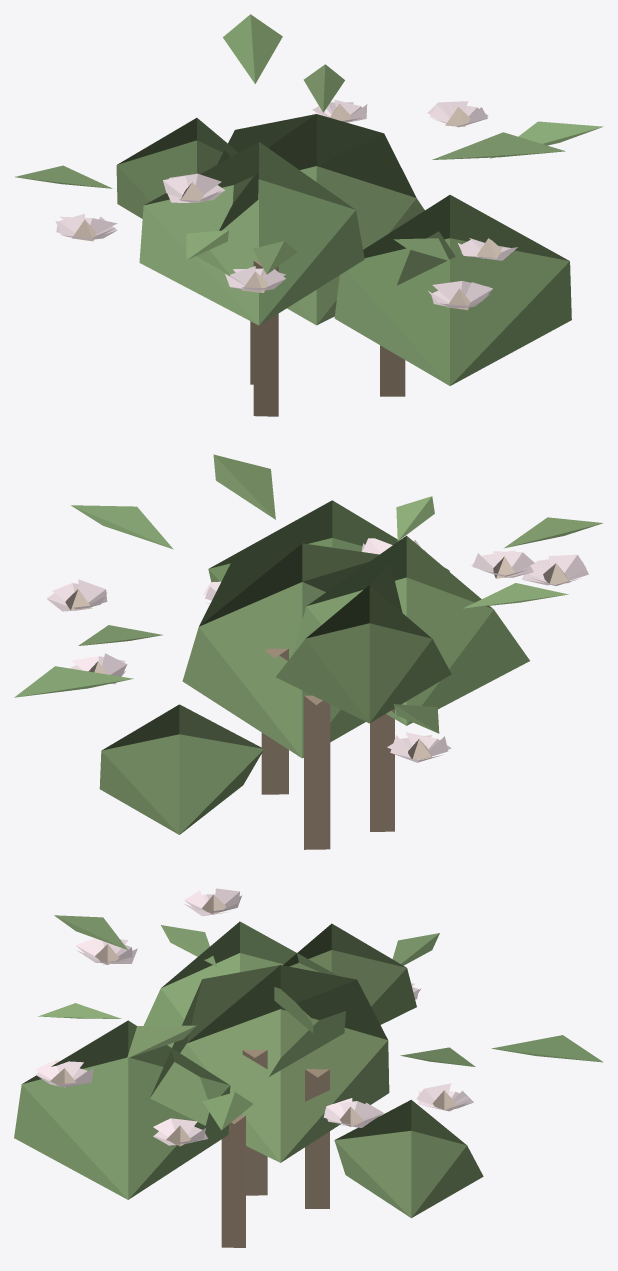
File: guan.zhizi@flowering__spring.glb
The picture shows the model from 3 angles, top to bottom: view 1: azimuth 30°, elevation 25°; view 2: azimuth 150°, elevation 25°; view 3: azimuth 270°, elevation 25°; orthographic projection. The views are drawn at different scales.
Parts seen in each view (by area): view 1: guan.zhizi@flowering__spring; view 2: guan.zhizi@flowering__spring; view 3: guan.zhizi@flowering__spring.
Part boxes in pixels (x1,y1,x2,y2): guan.zhizi@flowering__spring: (15, 14, 603, 416); guan.zhizi@flowering__spring: (14, 454, 603, 849); guan.zhizi@flowering__spring: (14, 888, 603, 1247).
Size of the model in its own units: 2.51 by 1.46 by 2.89.
